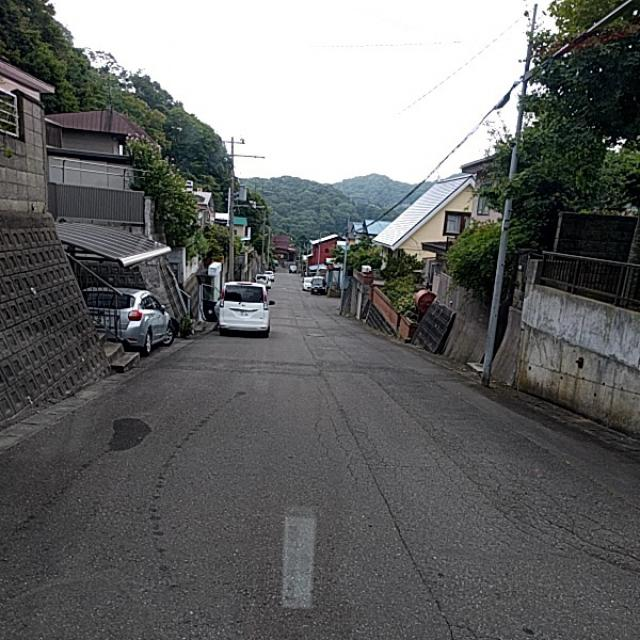pothole: (310, 356, 624, 552)
